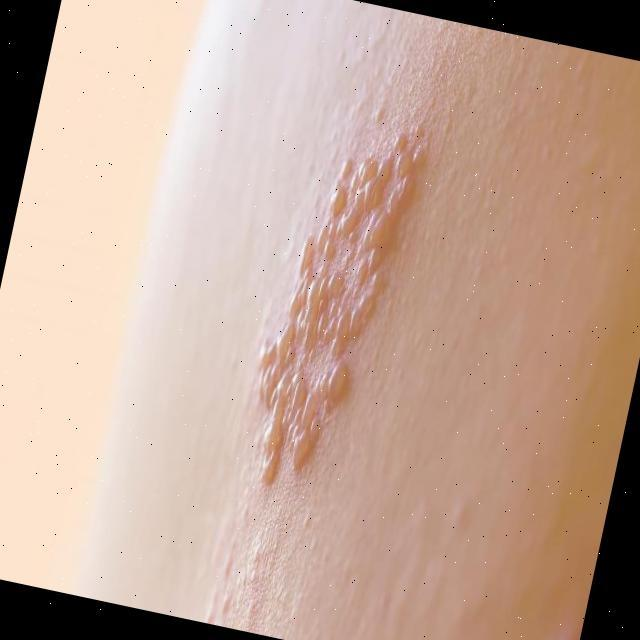Shingles: (237, 128, 430, 486)
